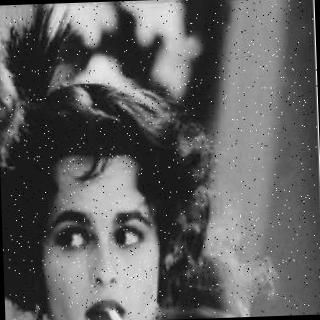smoke: (200, 214, 282, 318)
